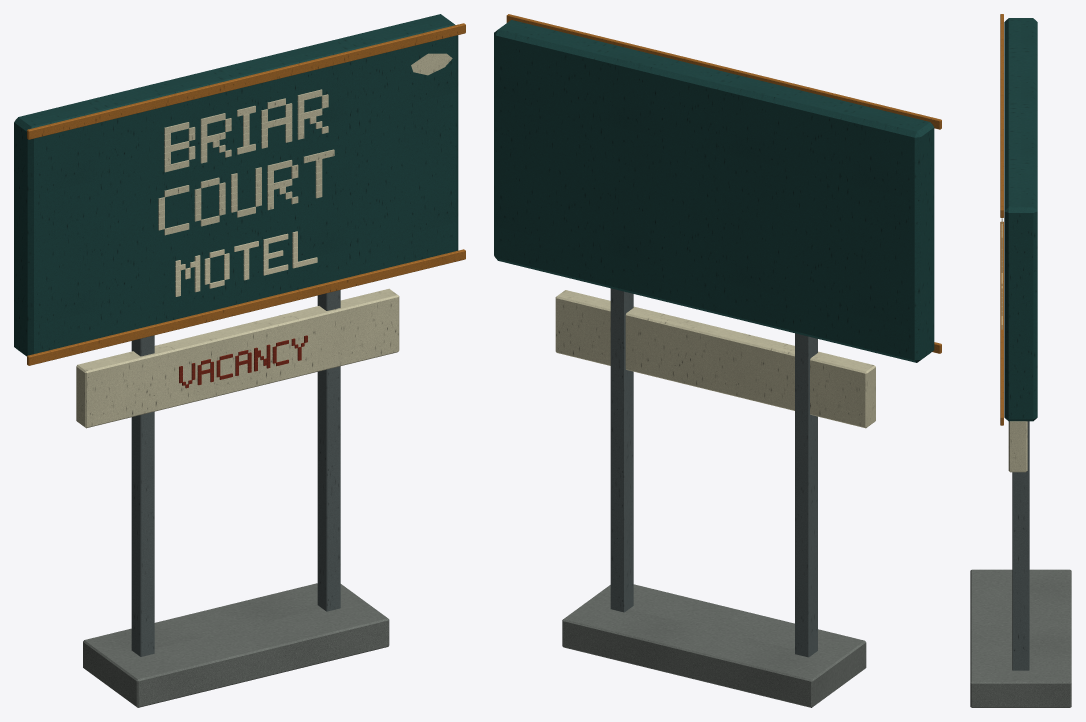
The model's file is roadside_sign.glb.
3 renders of one model, left to right at view 1: azimuth 30°, elevation 25°; view 2: azimuth 150°, elevation 25°; view 3: azimuth 270°, elevation 25°, orthographic. The views are drawn at different scales.
Visible parts, largest first — view 1: roadside_sign; view 2: roadside_sign; view 3: roadside_sign.
Part boxes in pixels (box(x1,y1,x2,y2)): roadside_sign: box(14, 14, 465, 707); roadside_sign: box(494, 14, 941, 707); roadside_sign: box(970, 14, 1071, 707).
Bounding box in the file's own units: 3.2 × 4.11 × 0.7.
7 materials, 7 textured.
